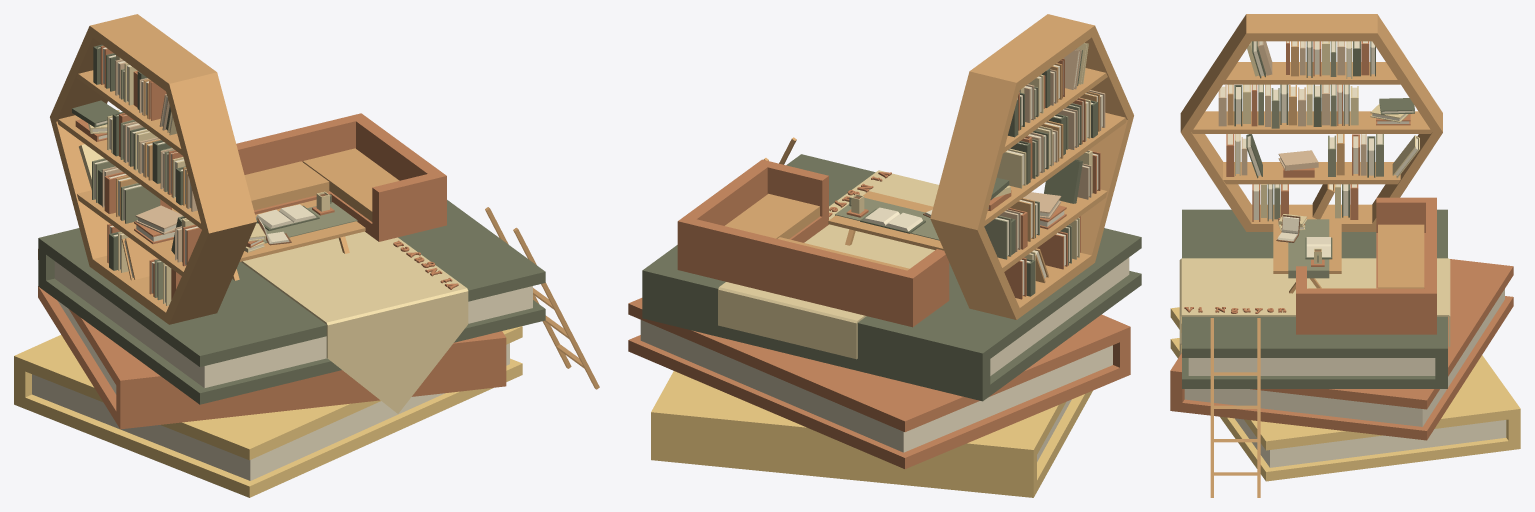
The picture shows the model from 3 angles, left to right: view 1: azimuth 30°, elevation 25°; view 2: azimuth 150°, elevation 25°; view 3: azimuth 270°, elevation 25°; orthographic projection. The views are drawn at different scales.
Parts seen in each view (by area): view 1: Cube.002, Cylinder, mat, Cube, Cube.001, Cube.013, Cube.007, Cube.088, Cube.014, Cube.015, Cube.016, Cube.018 (+12 smaller); view 2: Cube.002, Cylinder, Cube, Cube.001, Cube.013, mat, Cube.006, Cube.014, Cube.088, Cube.016, Cube.019, Cube.018 (+10 smaller); view 3: Cube.002, Cylinder, Cube.001, Cube, Cube.013, mat, Cube.006, Cube.007, Cube.088, Cube.016, Cube.015, Cube.018 (+16 smaller).
Boxes of the visible parts, x1,y1,x2,y2 form: Cube.002: (38,200,545,404); Cylinder: (50,14,256,324); mat: (241,231,468,413); Cube: (14,326,522,497); Cube.001: (38,249,506,429); Cube.013: (160,113,446,241); Cube.007: (32,343,509,480); Cube.088: (54,261,532,388); Cube.014: (303,148,399,221); Cube.015: (172,161,329,213); Cube.016: (57,115,202,229); Cube.018: (77,190,185,275); Cube.002: (642,154,1141,401); Cylinder: (930,14,1133,319); Cube: (651,371,1092,497); Cube.001: (628,298,1130,468); Cube.013: (677,159,949,327); mat: (718,170,938,359); Cube.006: (640,320,1112,452); Cube.014: (725,193,819,238); Cube.088: (990,257,1129,375); Cube.016: (984,112,1126,226); Cube.019: (828,191,943,250); Cube.018: (998,189,1107,271); Cube.002: (1182,209,1447,388); Cylinder: (1180,14,1442,231); Cube.001: (1170,259,1513,440); Cube: (1170,307,1520,481); Cube.013: (1296,197,1436,334); mat: (1179,258,1450,355); Cube.006: (1184,289,1504,426); Cube.007: (1181,333,1506,467); Cube.088: (1188,358,1435,375); Cube.016: (1191,111,1431,133); Cube.015: (1378,224,1424,288); Cube.018: (1223,162,1400,184).
Size of the model in its own units: 12.99 by 10.6 by 10.5.
